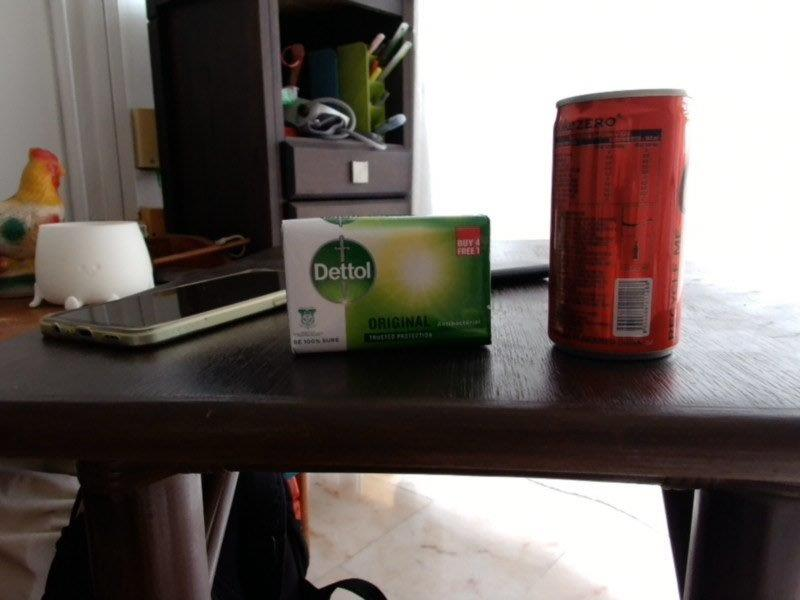Dettol: (547, 90, 696, 356), (281, 216, 494, 355)
